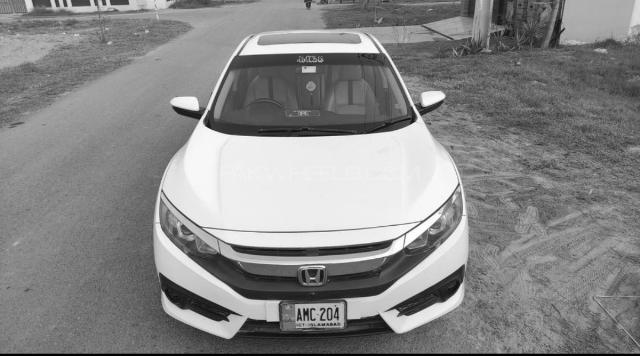Number: (296, 307, 342, 323)
